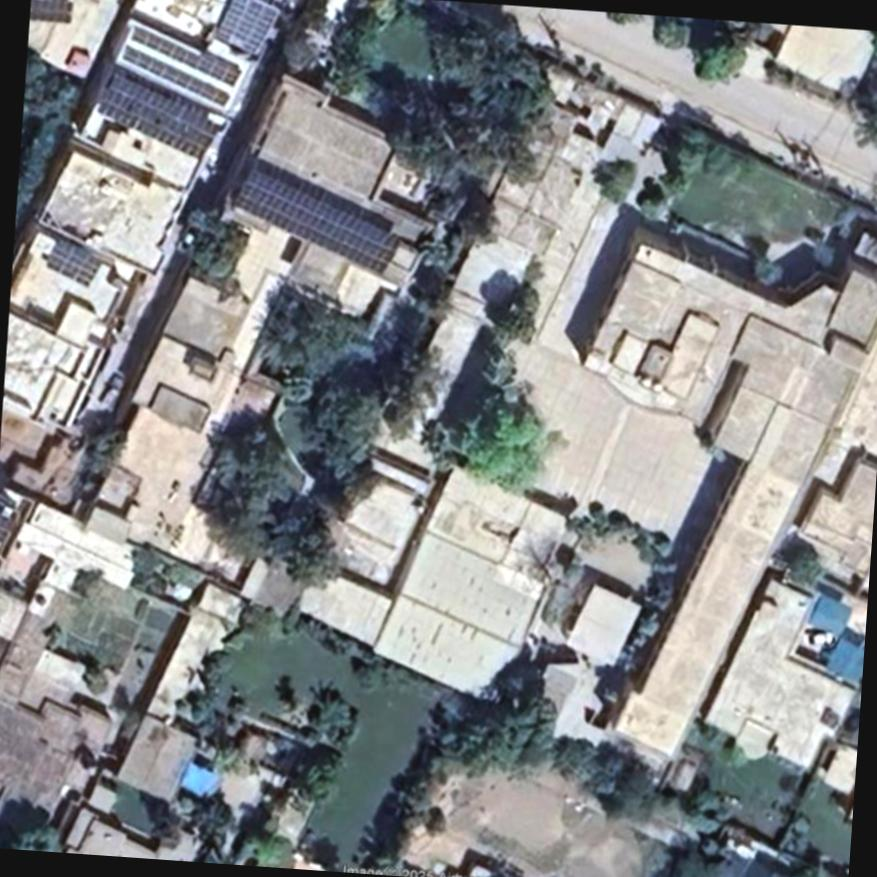Solarpanel: (232, 166, 401, 272), (96, 71, 221, 157), (129, 24, 241, 86), (122, 44, 227, 106), (215, 0, 282, 54), (45, 235, 100, 282), (29, 0, 72, 20)
